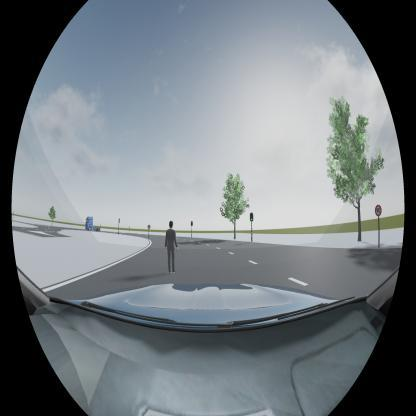Green Light: (250, 212, 253, 222)
Red Light: (191, 221, 193, 226)
